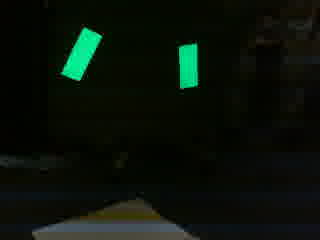target: (59, 25, 205, 95)
